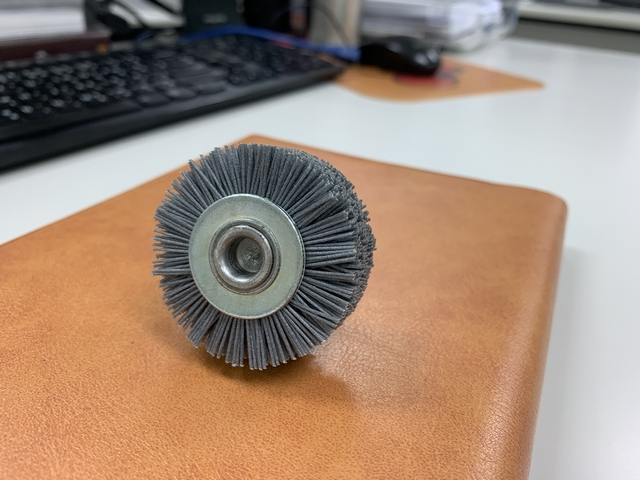Wheel Brush: (138, 130, 338, 387), (159, 151, 376, 378), (240, 122, 393, 409)
